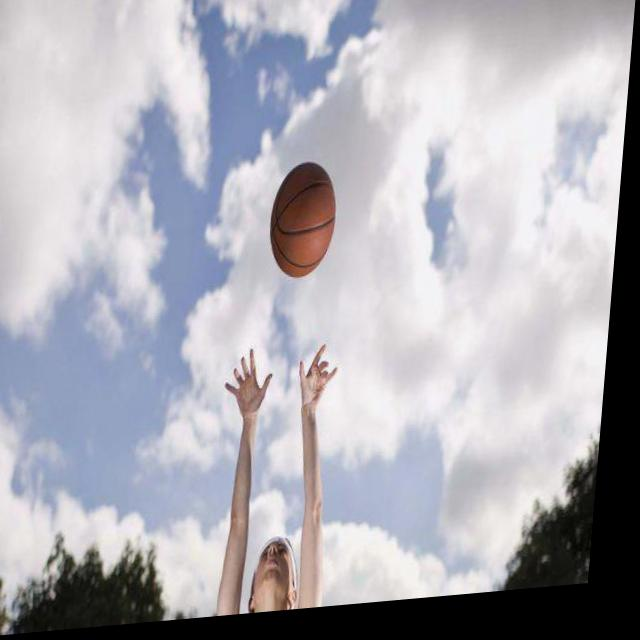Basketball: (266, 158, 341, 280)
